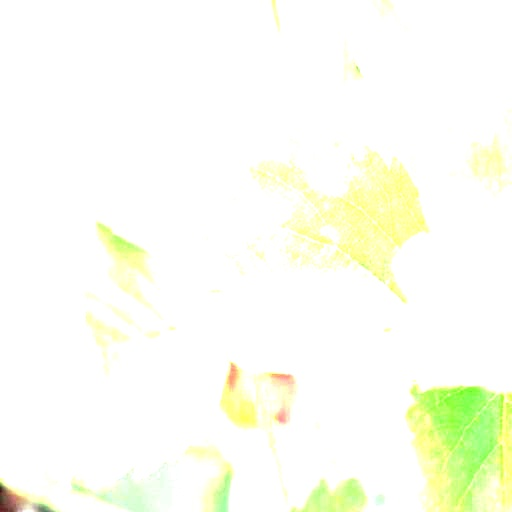Powdery Mildew Leaf: (159, 125, 431, 383)
